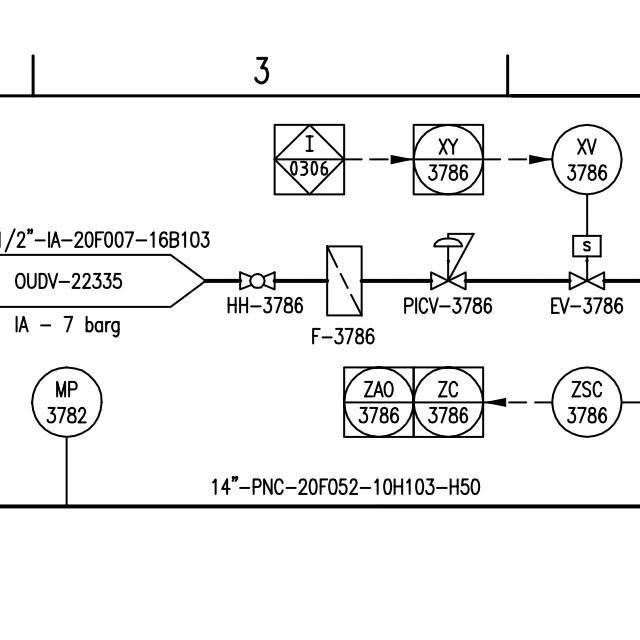BV2: (234, 266, 282, 293)
F2: (322, 241, 366, 318)
PCV: (426, 228, 478, 294)
SV: (566, 230, 610, 291)
